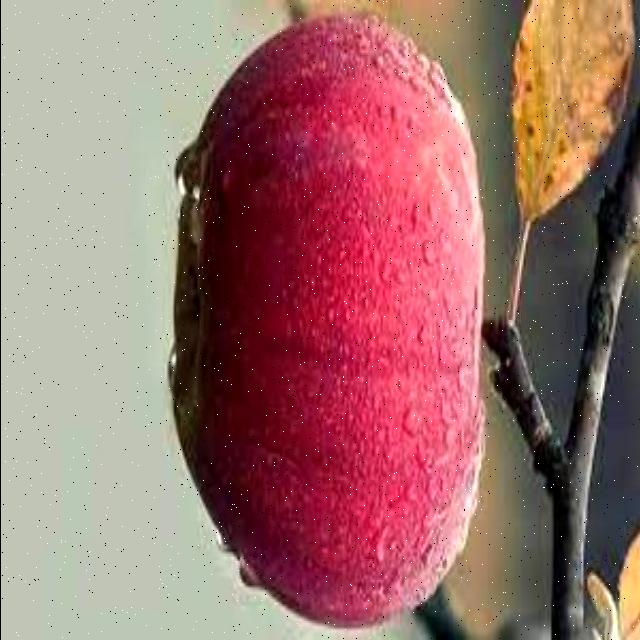HEALTHY: (152, 9, 524, 626)
